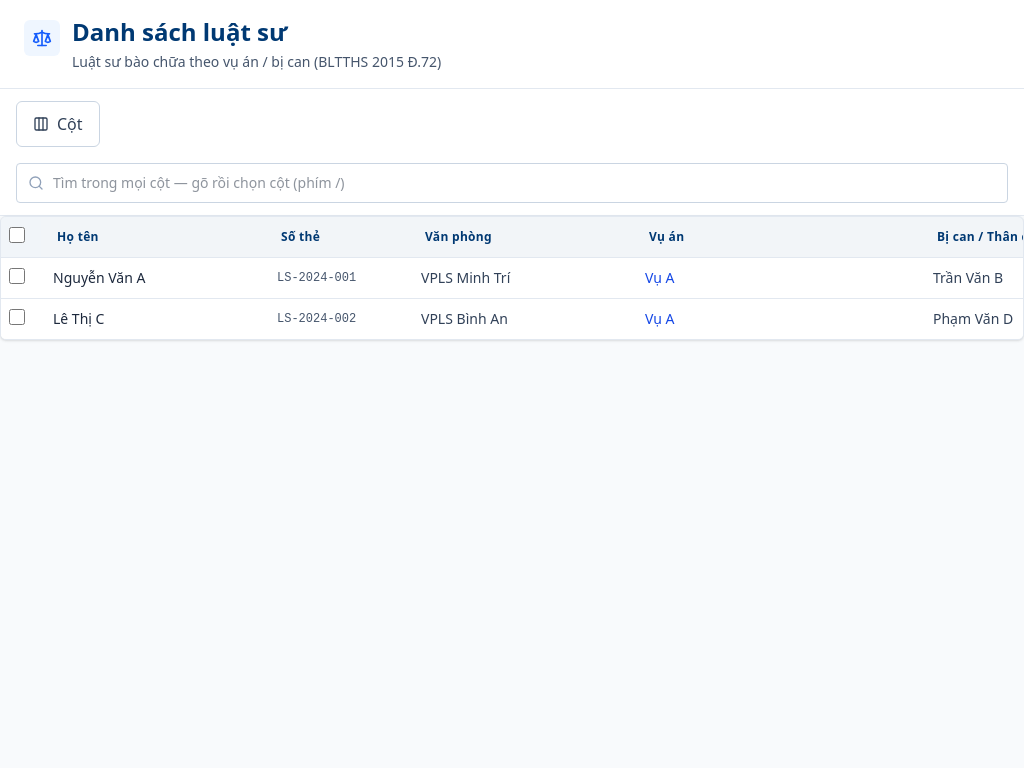
LawyerListPageShell — bulk selection (plan PR4 mandatory) › partial select — click 1 row checkbox → BulkActionBar shows 1 selected
Expected: the text "Nguyễn Văn A" is shown, [41,258,265,298]
Step 1. Click the checkbox named "Chọn luật sư Nguyễn Văn A" → (17, 276), box [9,268,25,284]
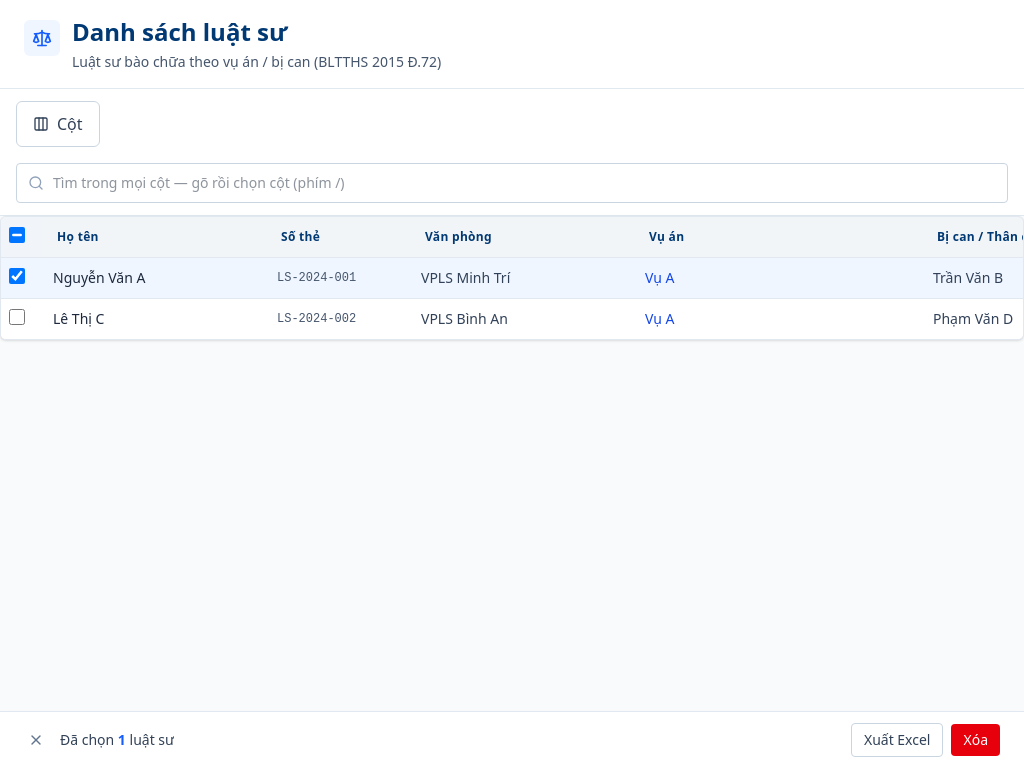
Expected: the message "Đã chọn 1 luật sư Xuất Excel Xóa" is shown, [0,711,1024,767]
